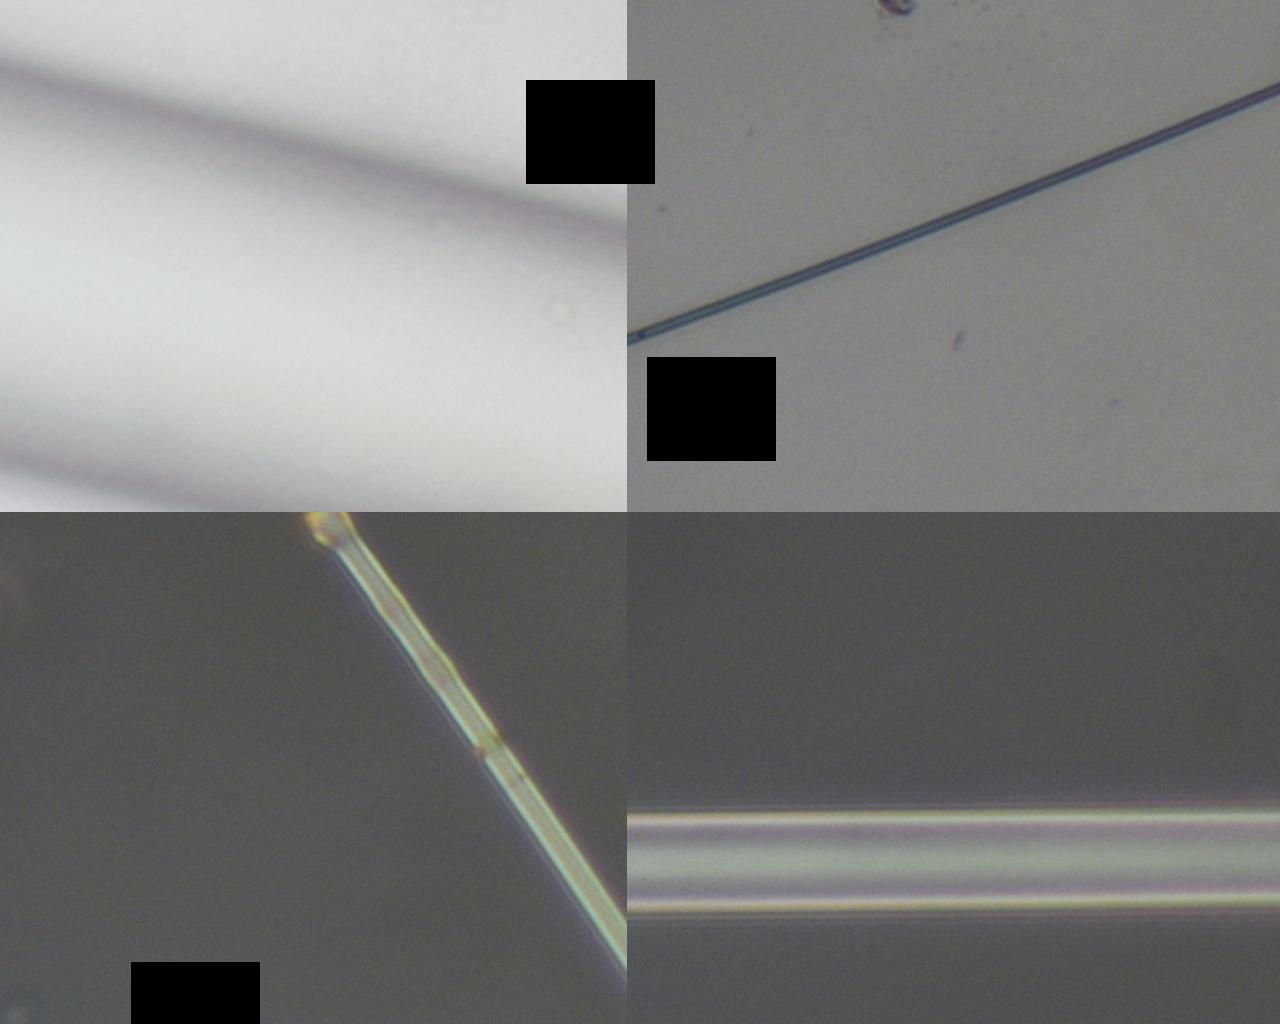fiber: (1088, 460, 1280, 1024), (460, 0, 686, 460), (444, 460, 498, 1024)
